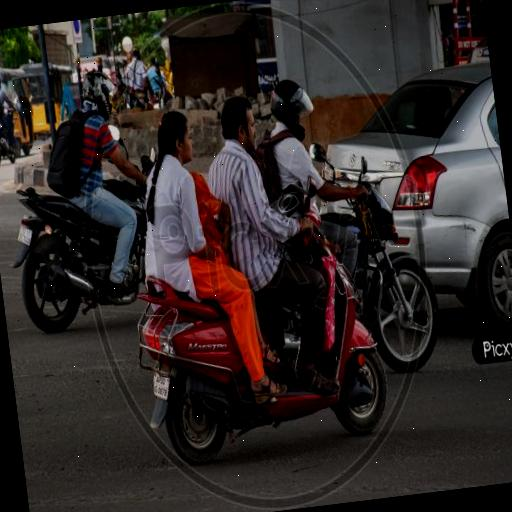helmet: (15, 62, 158, 320), (258, 44, 396, 251), (0, 67, 24, 166)
no helmet: (196, 68, 386, 437)
